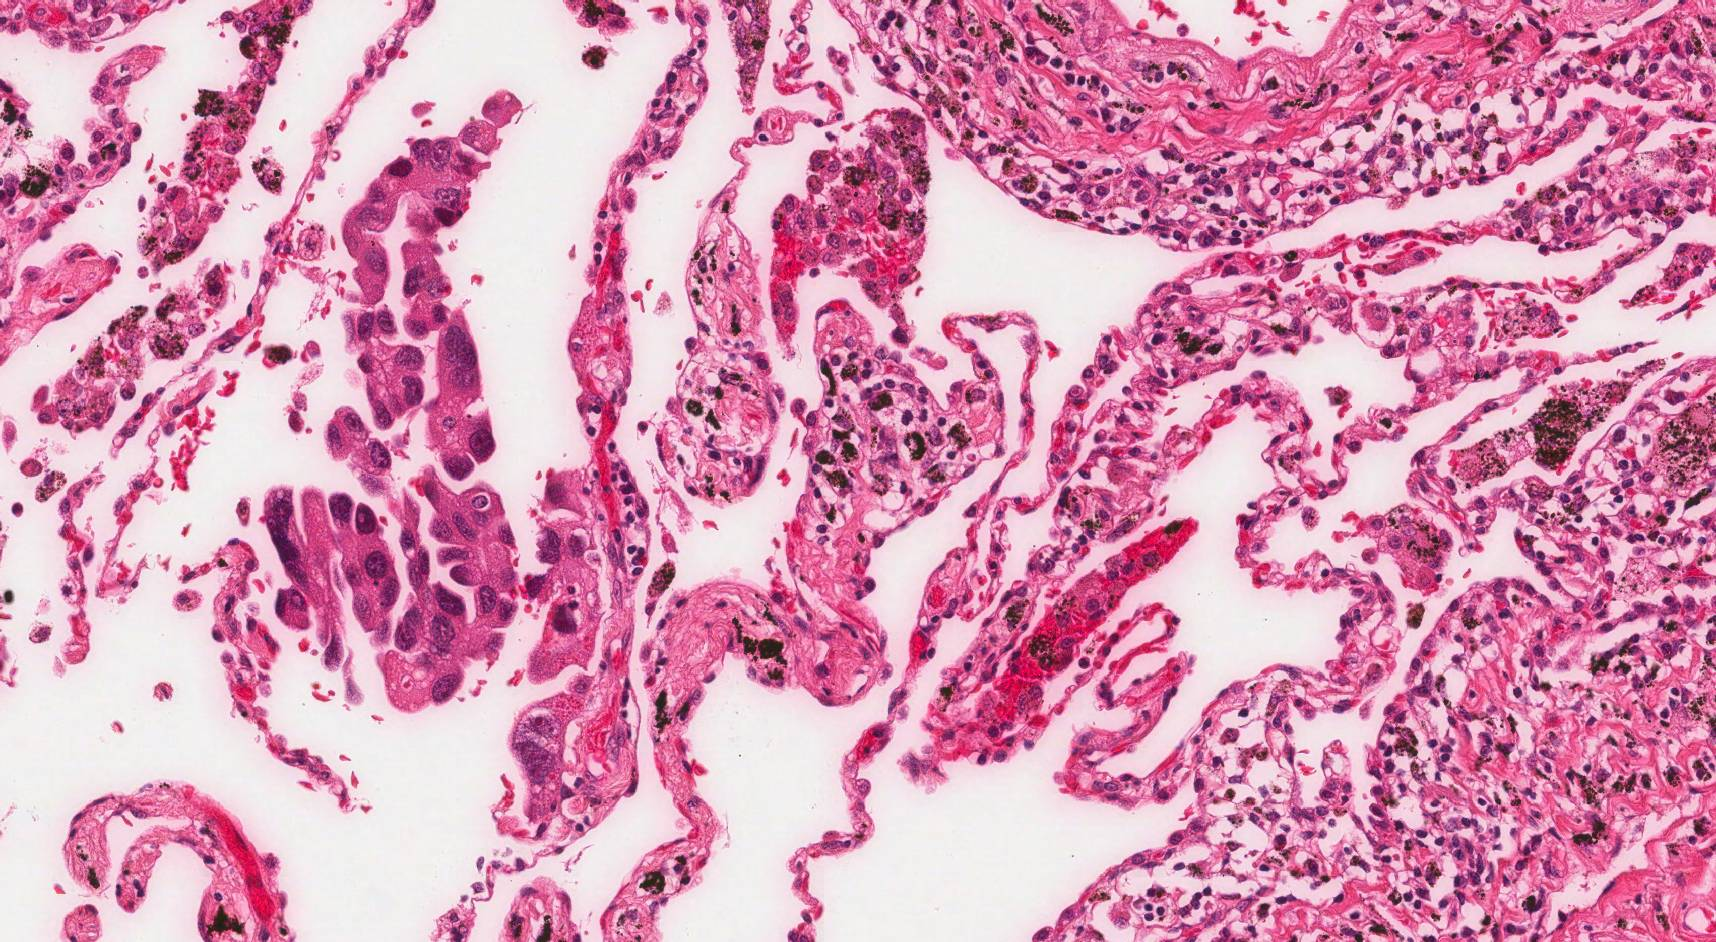stas: (255, 90, 532, 715)
